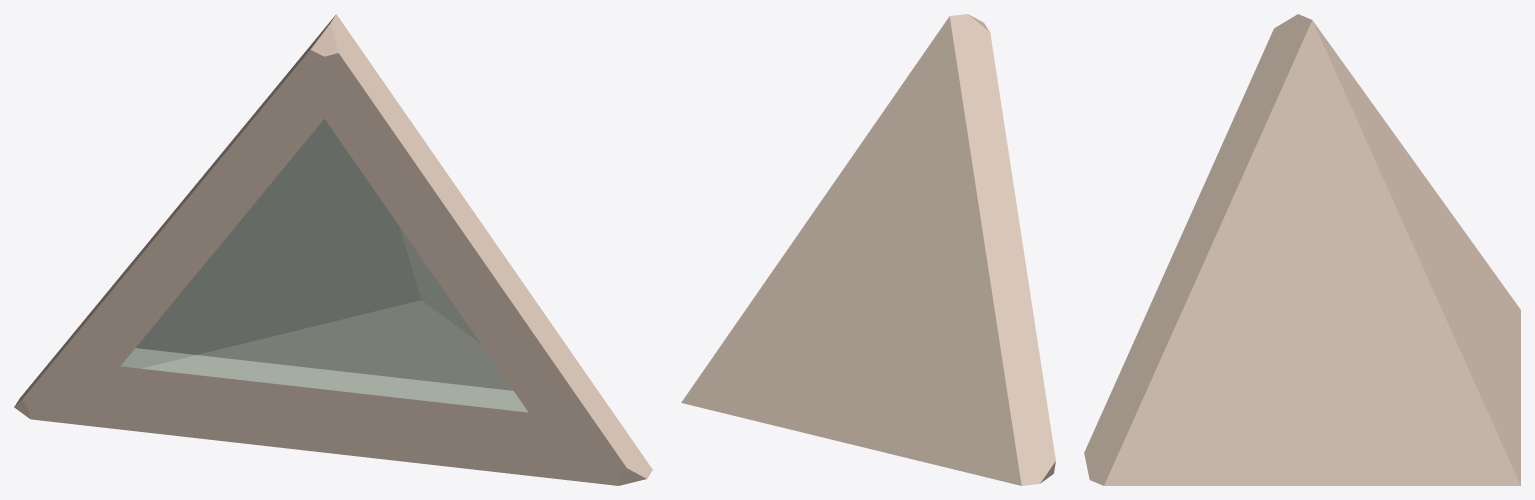
Rendered from silver_pyramid.gltf.
3 renders of one model, left to right at view 1: azimuth 30°, elevation 25°; view 2: azimuth 150°, elevation 25°; view 3: azimuth 270°, elevation 25°, orthographic. The views are drawn at different scales.
Parts seen in each view (by area): view 1: Plane.022; view 2: Plane.022; view 3: Plane.022.
Boxes of the visible parts, left/top/right/bottom form: Plane.022: left=14, top=14, right=652, bottom=485; Plane.022: left=681, top=14, right=1055, bottom=485; Plane.022: left=1084, top=14, right=1520, bottom=485.
Bounding box in the file's own units: 1.83 × 1.75 × 1.83.
